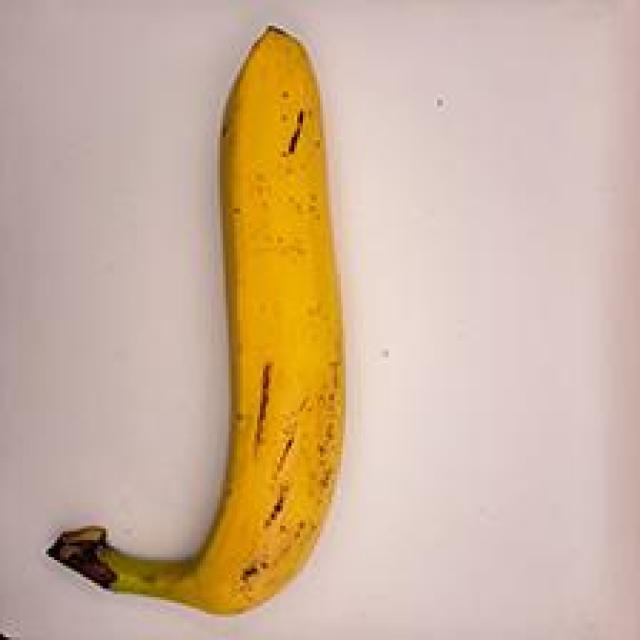Ripe: (33, 4, 393, 626)
